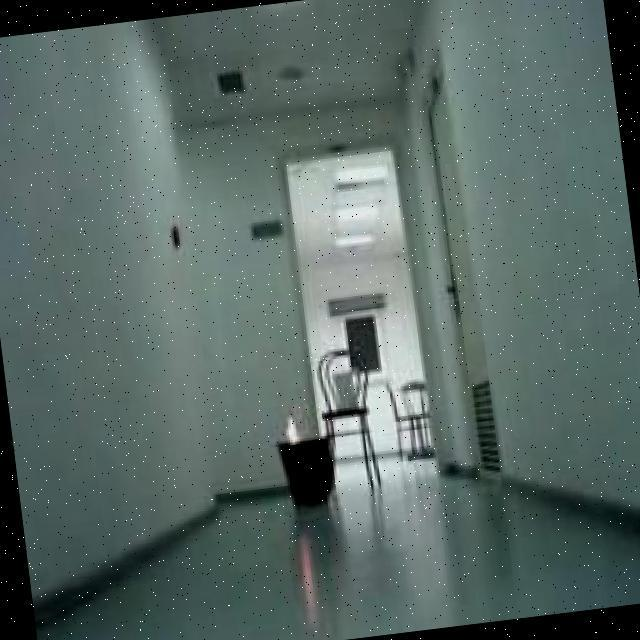Fire: (284, 411, 298, 445)
